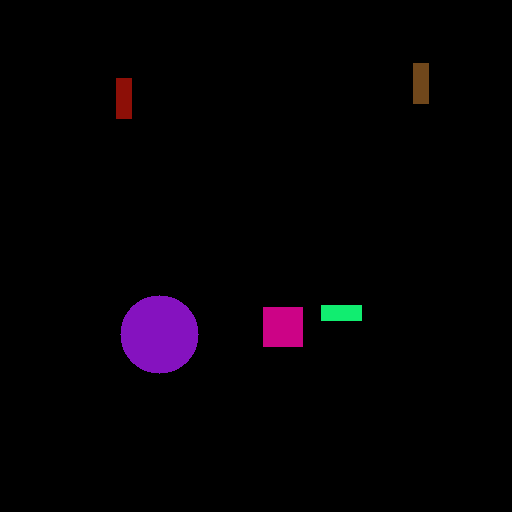circle: (123, 294, 199, 369)
side_rect: (321, 302, 366, 321)
square: (261, 304, 304, 349)
up_rect: (411, 62, 431, 107), (113, 72, 133, 117)
